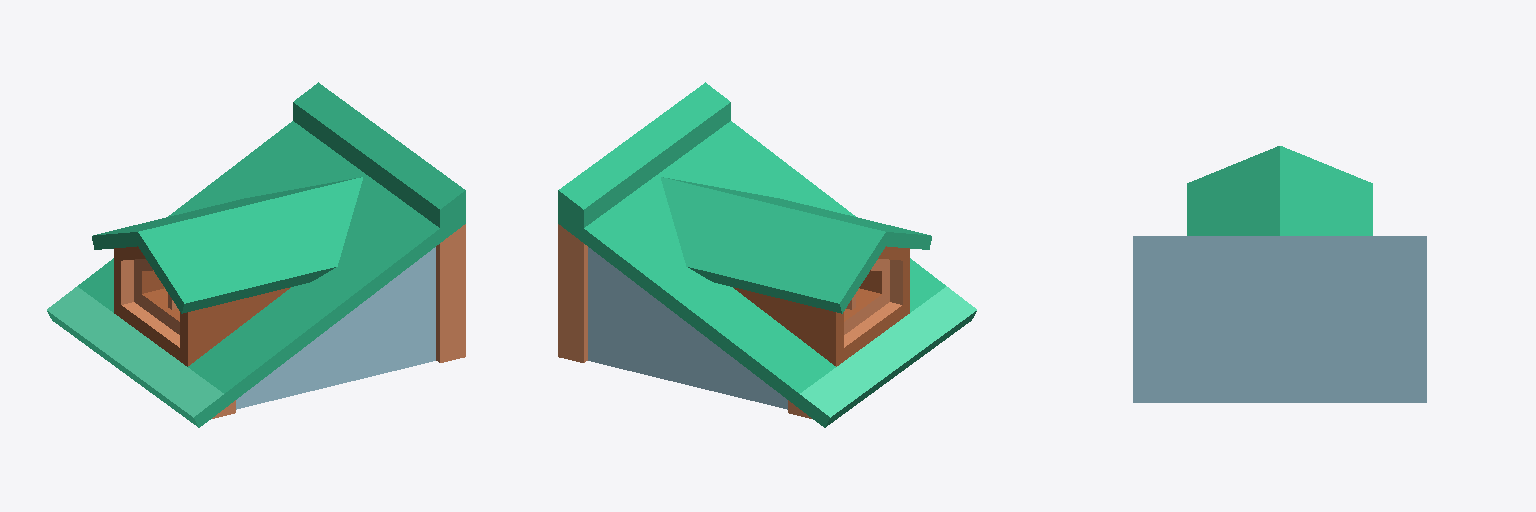
The model's file is roofWindow.obj.
3 views of the same model, side by side, from view 1: azimuth 30°, elevation 25°; view 2: azimuth 150°, elevation 25°; view 3: azimuth 270°, elevation 25° (orthographic).
Parts seen in each view (by area): view 1: roofWindow; view 2: roofWindow; view 3: roofWindow.
Boxes of the visible parts, <box> form: roofWindow: <box>47,82,465,427</box>; roofWindow: <box>558,82,976,427</box>; roofWindow: <box>1133,146,1426,402</box>.
Bounding box in the file's own units: 1.07 × 0.6483 × 1.